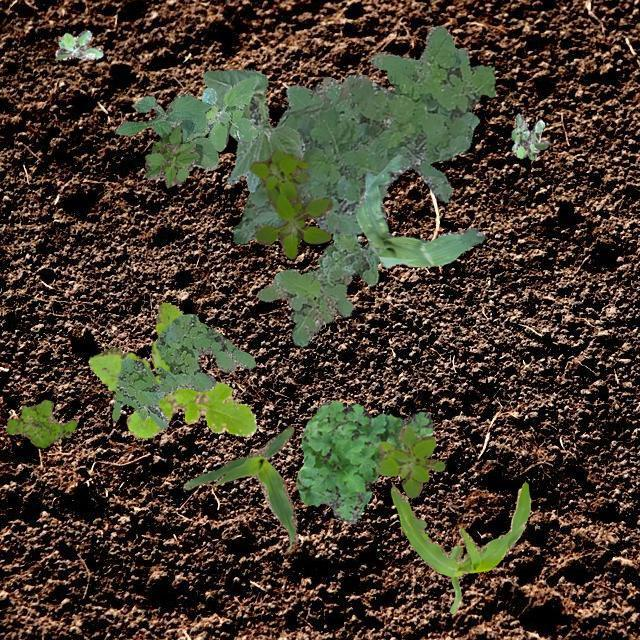crop: (390, 480, 530, 612), (354, 152, 484, 266), (182, 426, 298, 544), (202, 68, 304, 190), (115, 92, 216, 170)
weed: (232, 24, 494, 242), (86, 302, 255, 438), (294, 400, 432, 522), (110, 312, 254, 428), (258, 232, 378, 346), (248, 148, 332, 258), (186, 74, 258, 150), (374, 424, 444, 496), (5, 398, 76, 446), (144, 124, 198, 186), (510, 112, 548, 160), (54, 30, 102, 59)
